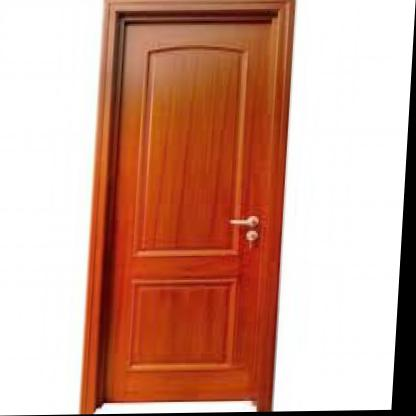door: (88, 0, 287, 409)
